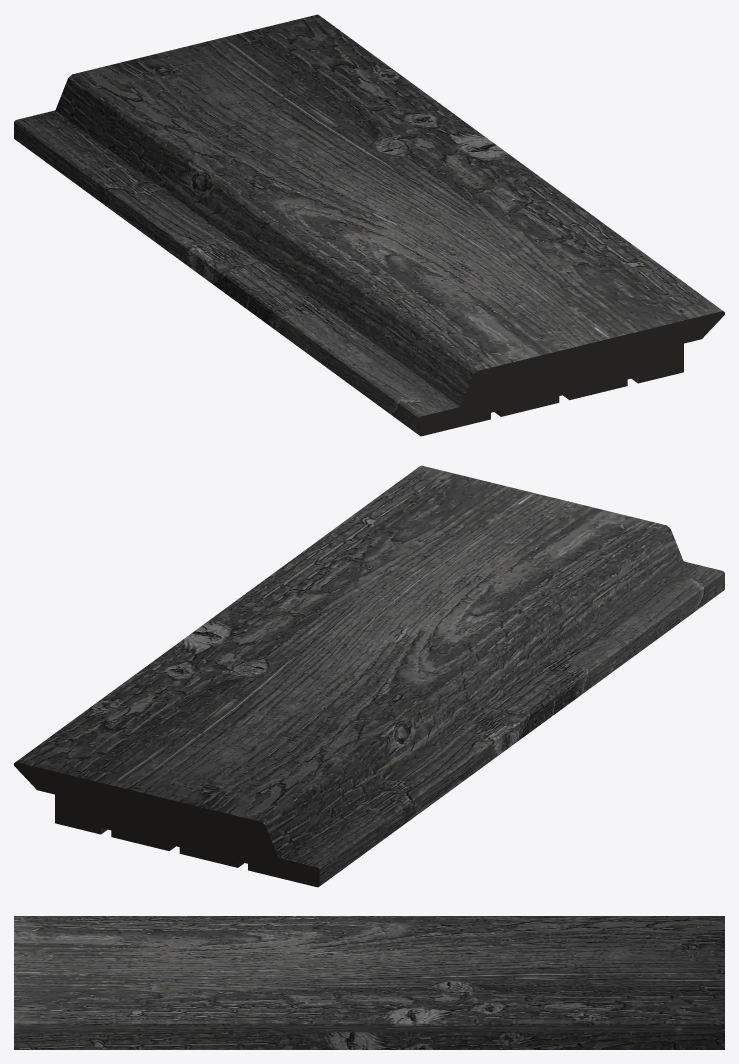
Rendered from larch-facade-half-tenon-45-carbon-light.glb.
3 views of the same model, one above another, from view 1: azimuth 30°, elevation 25°; view 2: azimuth 150°, elevation 25°; view 3: azimuth 270°, elevation 25° (orthographic). The views are drawn at different scales.
Parts seen in each view (by area): view 1: Pusė_Špunto_45; view 2: Pusė_Špunto_45; view 3: Pusė_Špunto_45.
Part boxes in pixels (<box>): Pusė_Špunto_45: <box>14,14,724,436</box>; Pusė_Špunto_45: <box>14,465,724,887</box>; Pusė_Špunto_45: <box>14,916,724,1049</box>.
Size of the model in its own units: 0.0723 by 0.0117 by 0.166.
Materials: 3 (1 with a texture image).
